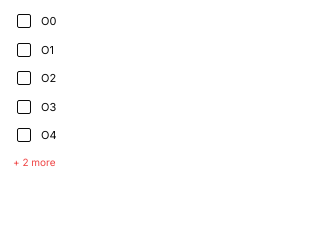
Scenario: FilterCheckboxList › '+ N more' visible when >5 options, expands and collapses
The width and height of the screenshot is (320, 243).
Click the button "+ 2 more". click: [34, 162]
box: [13,154,56,170]
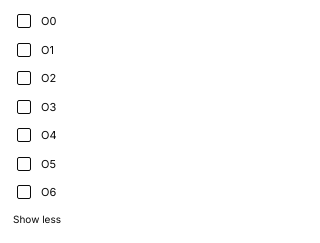
Result: the button "Show less" is shown
Click the button "Show less". click: [37, 219]
box: [13,212,61,226]
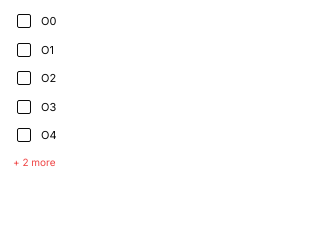
Result: the button "Show less" is gone
